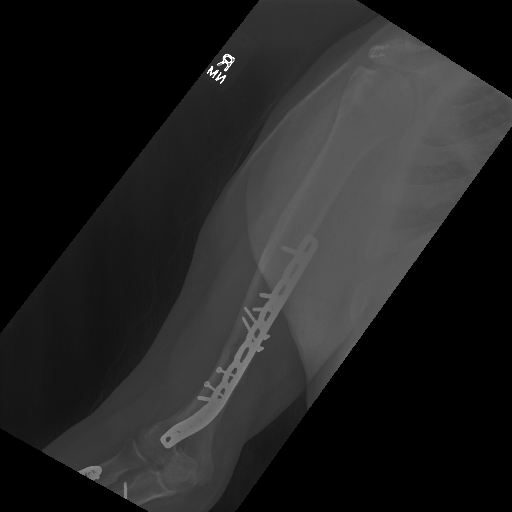implant: (241, 231, 323, 355), (161, 354, 235, 448)
